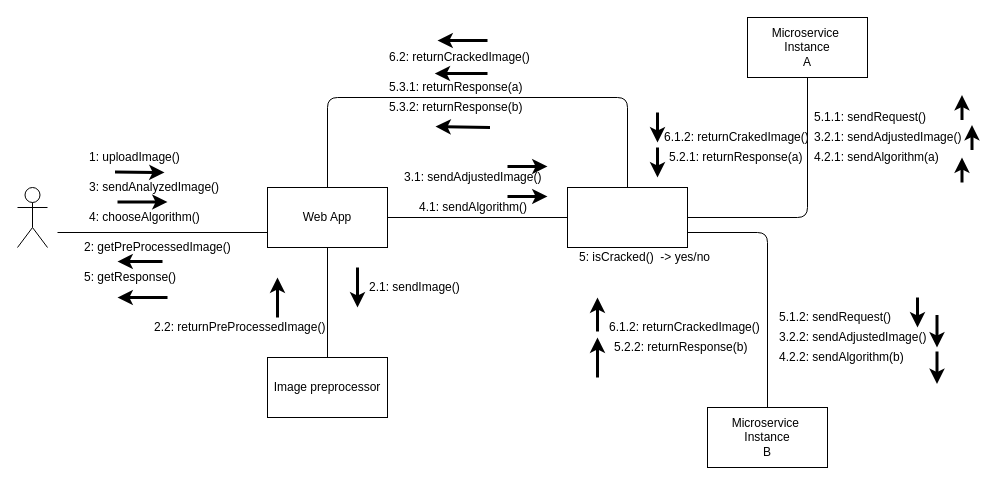
This 999x485 diagram has some shape labels left out. Here are the shapes that lost their labels. From the top down, the centre of each, then its label:
At [32,217]: "User".
At [627,217]: "Engine".
